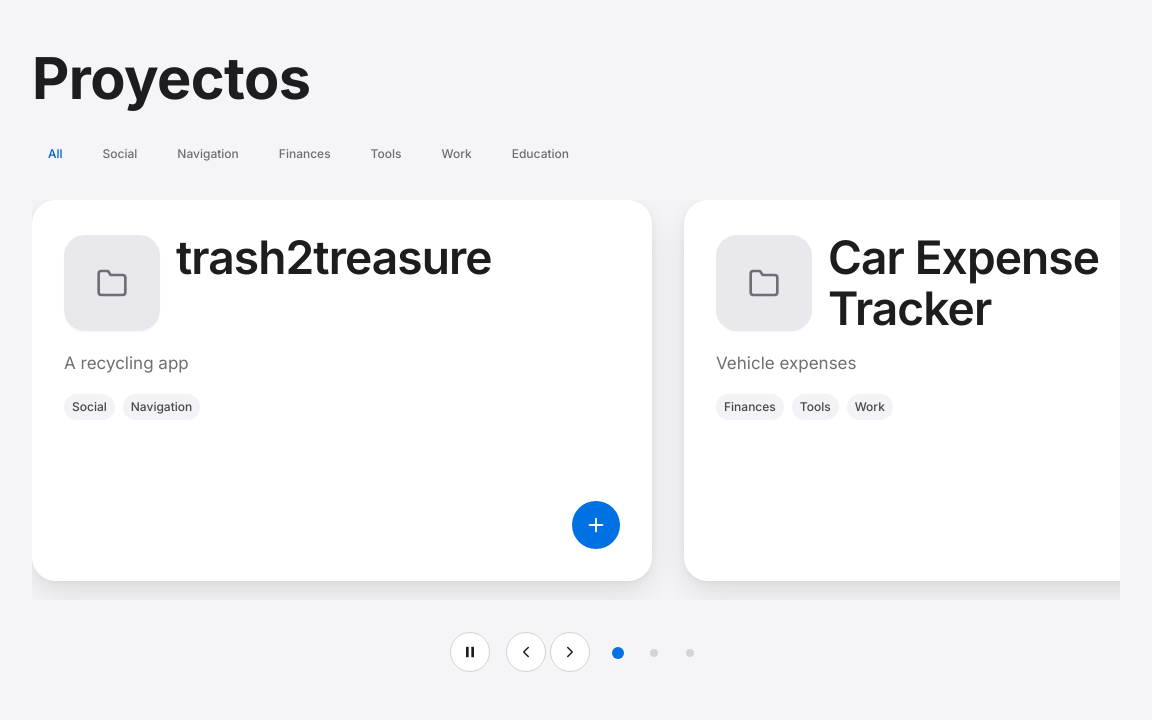
Test: Projects › keeps the published order regardless of the selected category
The width and height of the screenshot is (1152, 720).
Click the button "Work".
click(457, 154)  # box [426, 132, 488, 176]
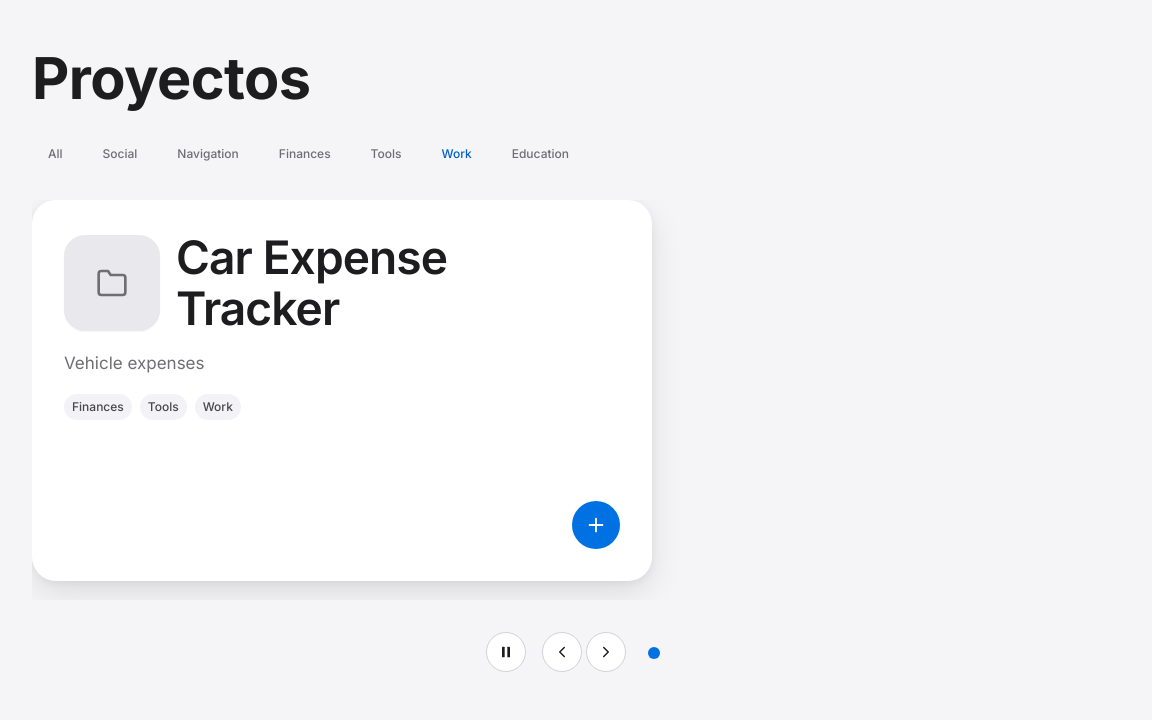
Check: the headings read "Car Expense Tracker", in this order, box [176, 230, 447, 336]
